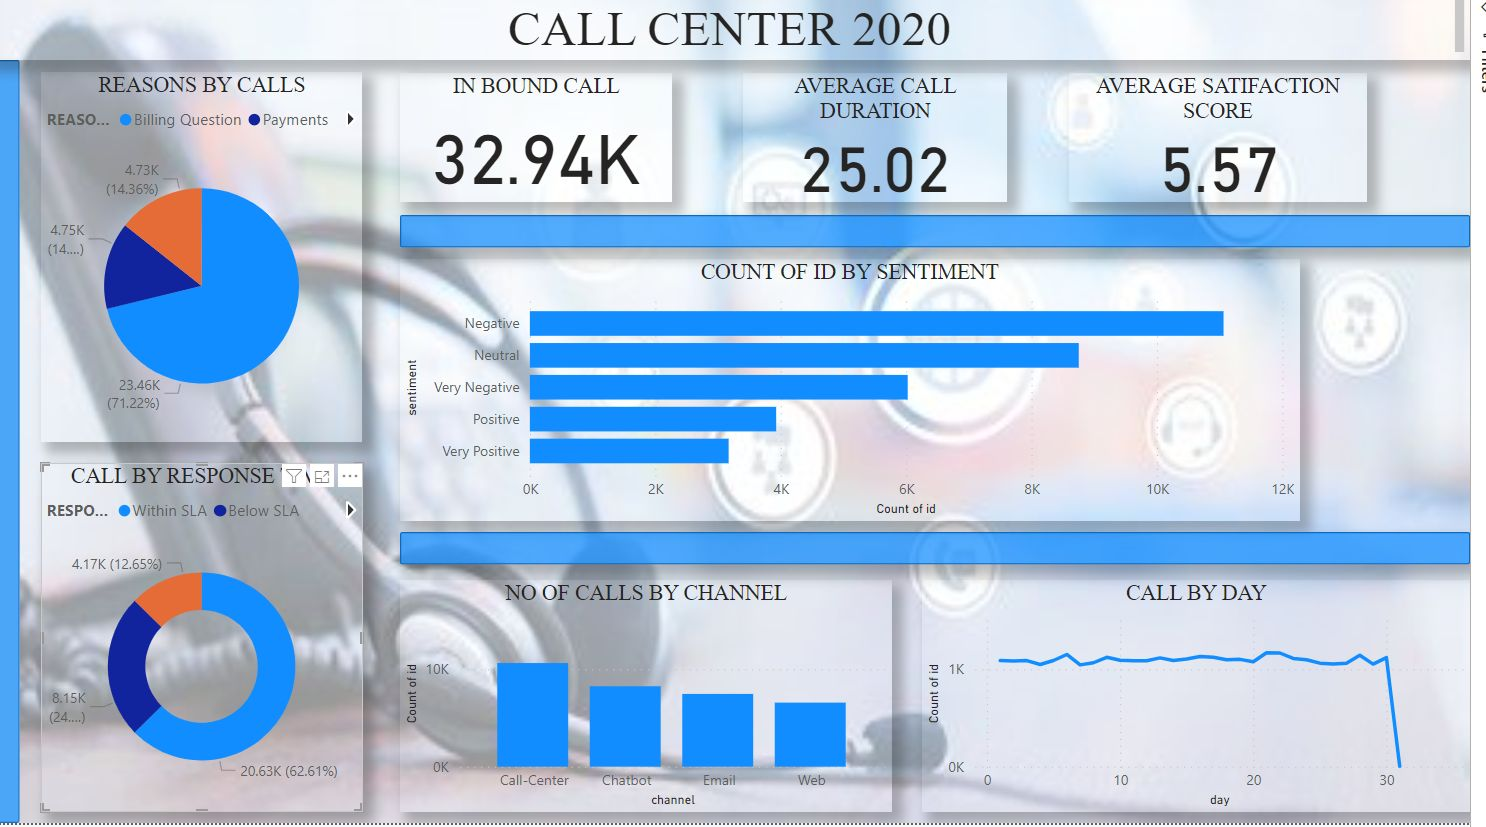

What the dashboard file says about the page in this screenshot:
{"tool":"powerbi","page":{"name":"Page 1","canvas":[1280,720],"ordinal":0},"visuals":[{"type":"shape","box":[0,61.9,28.6,658.1],"z":0},{"type":"textbox","box":[0,5.2,1280,56.9],"z":2000},{"type":"card","title":"IN BOUND CALL","fields":{"Values":["Count(Call Center.id)"]},"box":[356.8,73,235.2,110.8],"z":3000},{"type":"card","title":"AVERAGE CALL DURATION","fields":{"Values":["Avg(Call Center.call duration in minutes)"]},"box":[652.8,73,228.4,110.8],"z":4000},{"type":"card","title":"AVERAGE SATIFACTION SCORE","fields":{"Values":["Avg(Call Center.csat_score)"]},"box":[934,73,256.8,110.8],"z":5000},{"type":"clusteredColumnChart","title":"NO OF CALLS BY CHANNEL","fields":{"Category":["Call Center.channel"],"Y":["CountNonNull(Call Center.id)"]},"box":[356.8,510.9,424.4,200],"z":6000},{"type":"clusteredBarChart","title":"COUNT OF ID BY SENTIMENT","fields":{"Category":["Call Center.sentiment"],"Y":["Count(Call Center.id)"]},"box":[356.8,233.8,775.8,225.7],"z":7000},{"type":"pieChart","title":"REASONS BY  CALLS","fields":{"Y":["Count(Call Center.id)"],"Category":["Call Center.reason"]},"box":[47.6,72.6,277.3,318.9],"z":8000},{"type":"donutChart","title":"CALL BY RESPONSE TIME","fields":{"Category":["Call Center.response_time"],"Y":["Count(Call Center.id)"]},"box":[47.6,409.4,277.3,301.1],"z":9000},{"type":"lineChart","title":"CALL BY DAY","fields":{"Y":["CountNonNull(Call Center.id)"],"Category":["Call Center.day"]},"box":[806.9,510.9,473.1,200],"z":10000},{"type":"shape","box":[356.8,196,923.2,28.4],"z":11000},{"type":"shape","box":[356.8,469,923.2,28.4],"z":12000}]}

Visuals, with their boxes in screenshot pixels (x1, y1, x2, y2), scaled from the page's 1280x720 canvas onto the 1486x827 screenshot:
shape: {"x1": 0, "y1": 71, "x2": 33, "y2": 826}
textbox: {"x1": 0, "y1": 6, "x2": 1485, "y2": 71}
"IN BOUND CALL" card: {"x1": 414, "y1": 84, "x2": 687, "y2": 211}
"AVERAGE CALL DURATION" card: {"x1": 758, "y1": 84, "x2": 1023, "y2": 211}
"AVERAGE SATIFACTION SCORE" card: {"x1": 1084, "y1": 84, "x2": 1382, "y2": 211}
"NO OF CALLS BY CHANNEL" clusteredColumnChart: {"x1": 414, "y1": 587, "x2": 907, "y2": 817}
"COUNT OF ID BY SENTIMENT" clusteredBarChart: {"x1": 414, "y1": 269, "x2": 1315, "y2": 528}
"REASONS BY  CALLS" pieChart: {"x1": 55, "y1": 83, "x2": 377, "y2": 450}
"CALL BY RESPONSE TIME" donutChart: {"x1": 55, "y1": 470, "x2": 377, "y2": 816}
"CALL BY DAY" lineChart: {"x1": 937, "y1": 587, "x2": 1485, "y2": 817}
shape: {"x1": 414, "y1": 225, "x2": 1485, "y2": 258}
shape: {"x1": 414, "y1": 539, "x2": 1485, "y2": 571}
